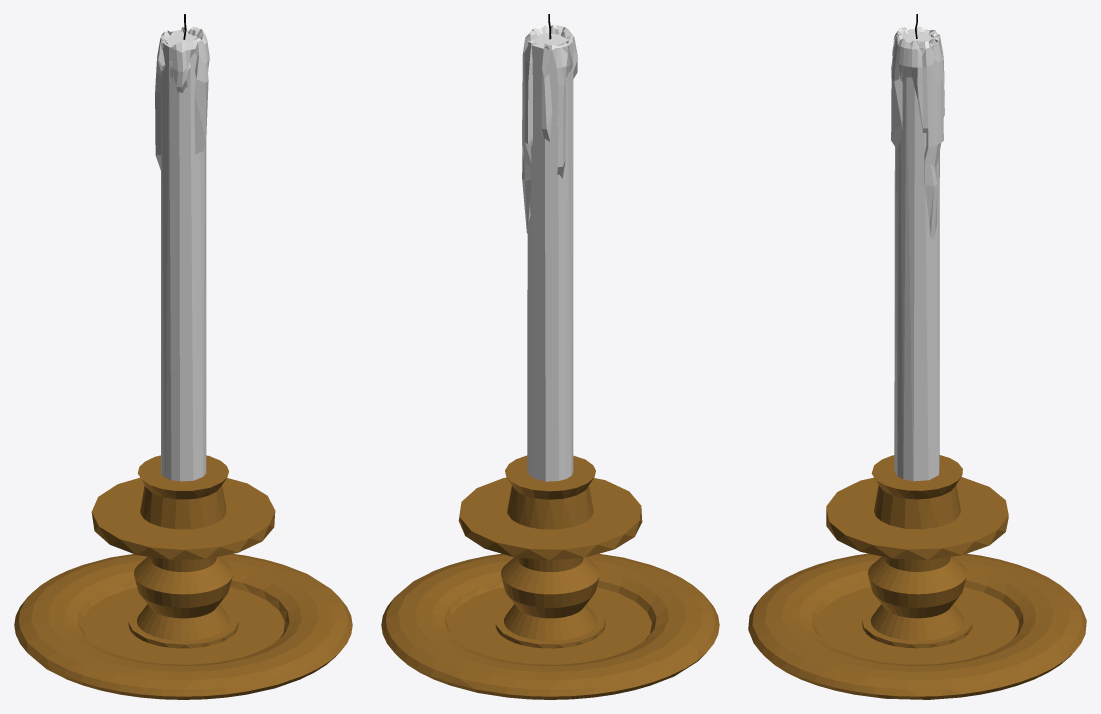
Rendered from Kitchen_SmallProps_Candle.fbx.
The picture shows the model from 3 angles, left to right: view 1: azimuth 30°, elevation 25°; view 2: azimuth 150°, elevation 25°; view 3: azimuth 270°, elevation 25°; orthographic projection.
Parts seen in each view (by area): view 1: Ljushållare, Ljus, Melted_part; view 2: Ljushållare, Ljus, Melted_part; view 3: Ljushållare, Ljus, Melted_part.
Boxes of the visible parts, x1=… form: Ljushållare: x1=14, y1=455, x2=352, y2=699; Ljus: x1=161, y1=30, x2=206, y2=481; Melted_part: x1=155, y1=26, x2=209, y2=170; Ljushållare: x1=381, y1=455, x2=719, y2=699; Ljus: x1=527, y1=33, x2=573, y2=481; Melted_part: x1=522, y1=25, x2=577, y2=233; Ljushållare: x1=748, y1=455, x2=1086, y2=699; Ljus: x1=894, y1=29, x2=939, y2=481; Melted_part: x1=891, y1=26, x2=944, y2=238.
Size of the model in its own units: 14.81 by 29.98 by 14.79.
